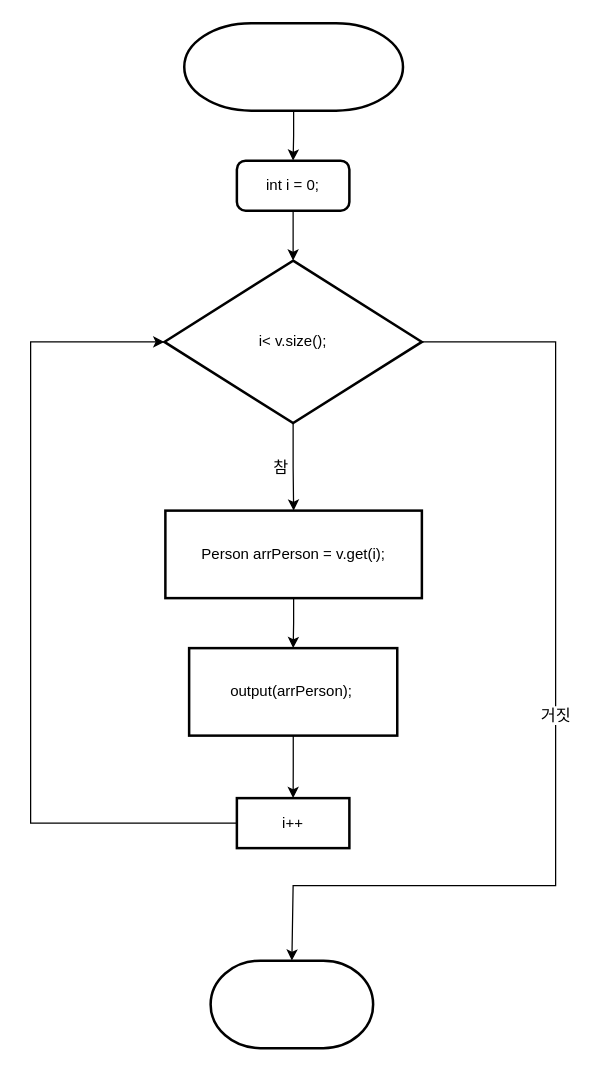
This 593x1070 diagram has some shape labels left out. Each missing label, with the box of its shape:
return;: (209, 959, 374, 1049)
void sort ( ): (182, 21, 404, 111)
